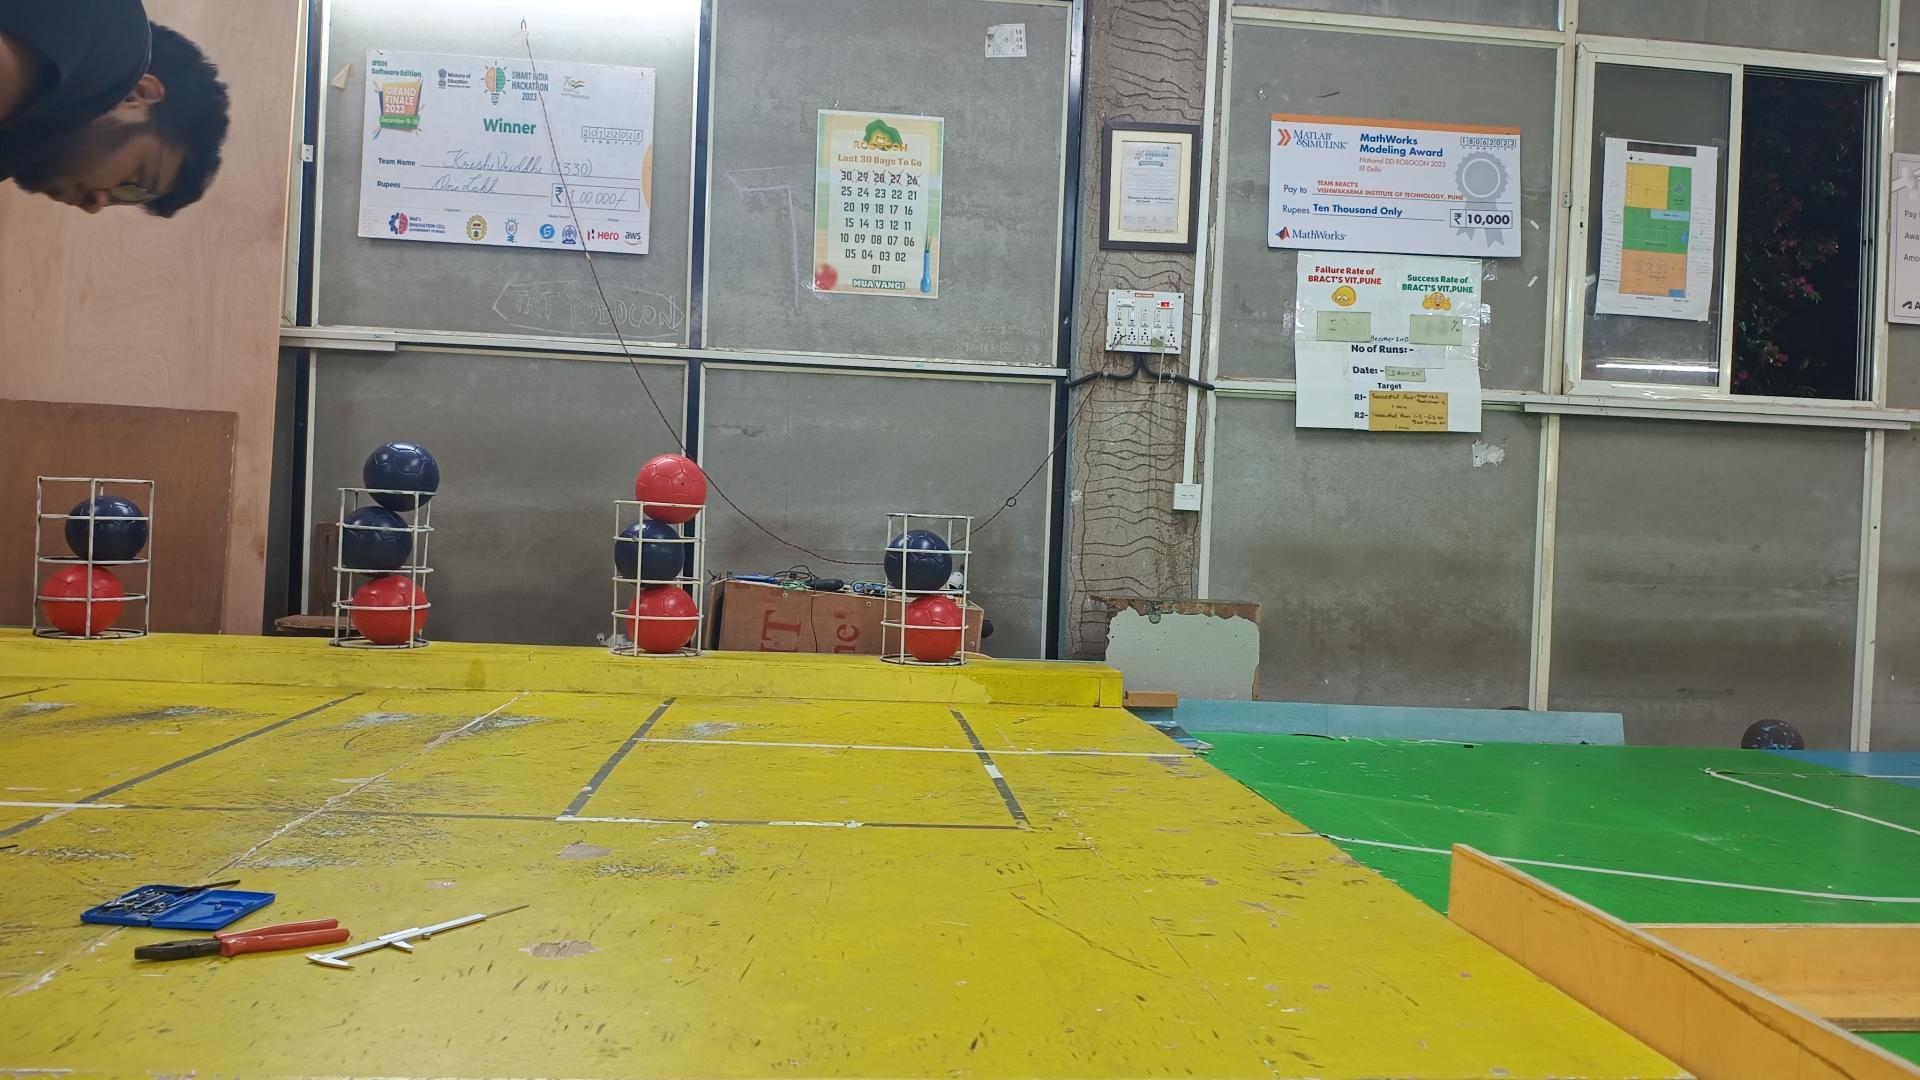dhoka: (65, 495, 146, 562), (365, 442, 439, 513), (342, 505, 413, 570), (881, 530, 952, 591), (616, 518, 683, 579)
laale: (41, 567, 124, 638), (349, 571, 429, 642), (624, 583, 699, 654), (634, 456, 705, 524), (903, 596, 963, 663)
